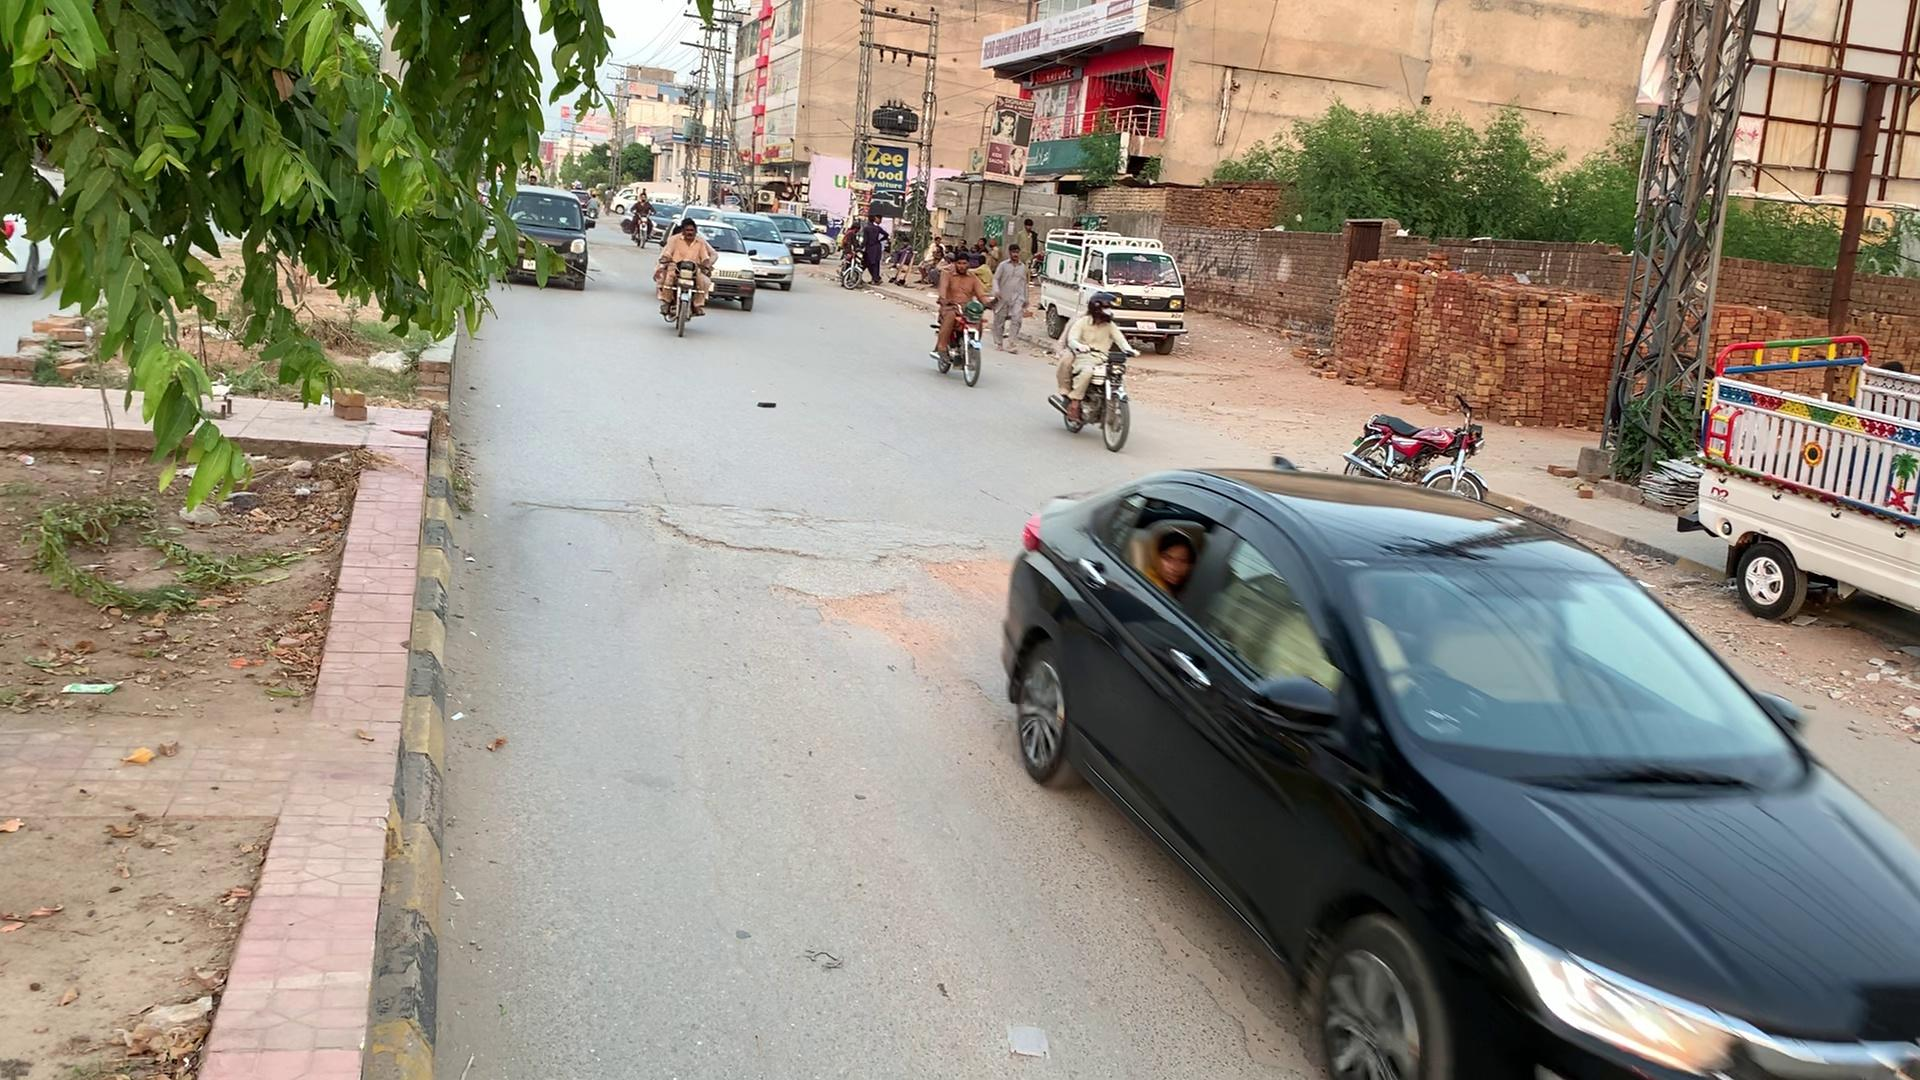windshield: (1331, 547, 1841, 790)
